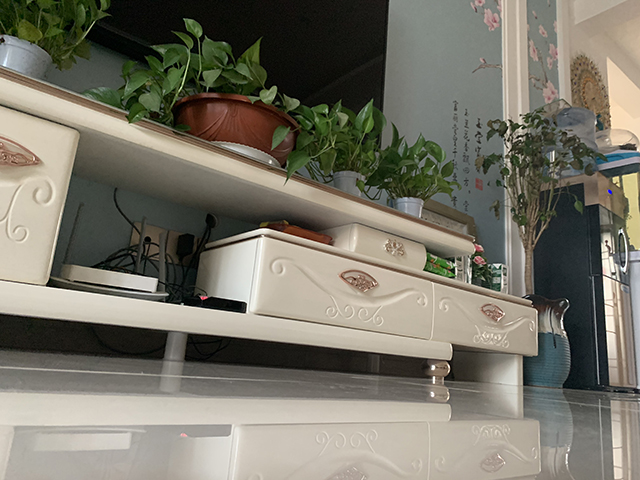cabinet: (1, 65, 540, 390)
